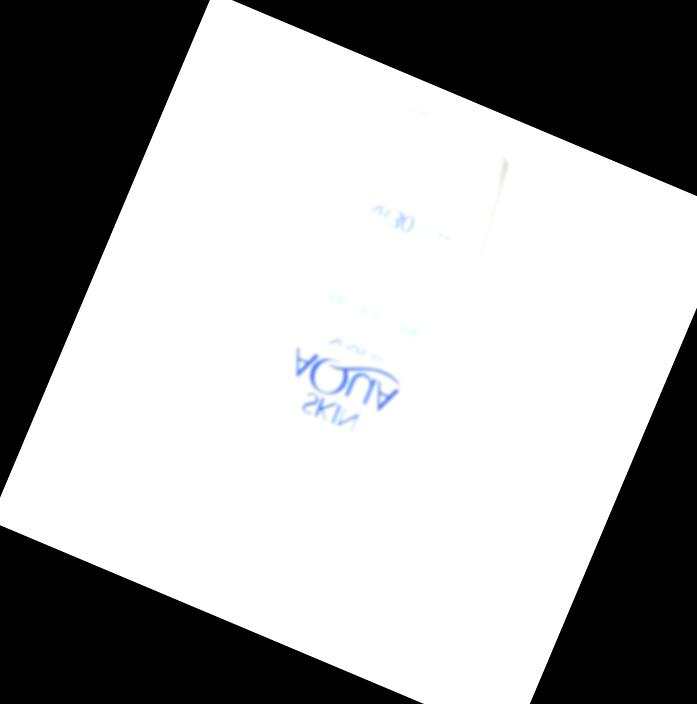cosmetic: (181, 104, 521, 618)
